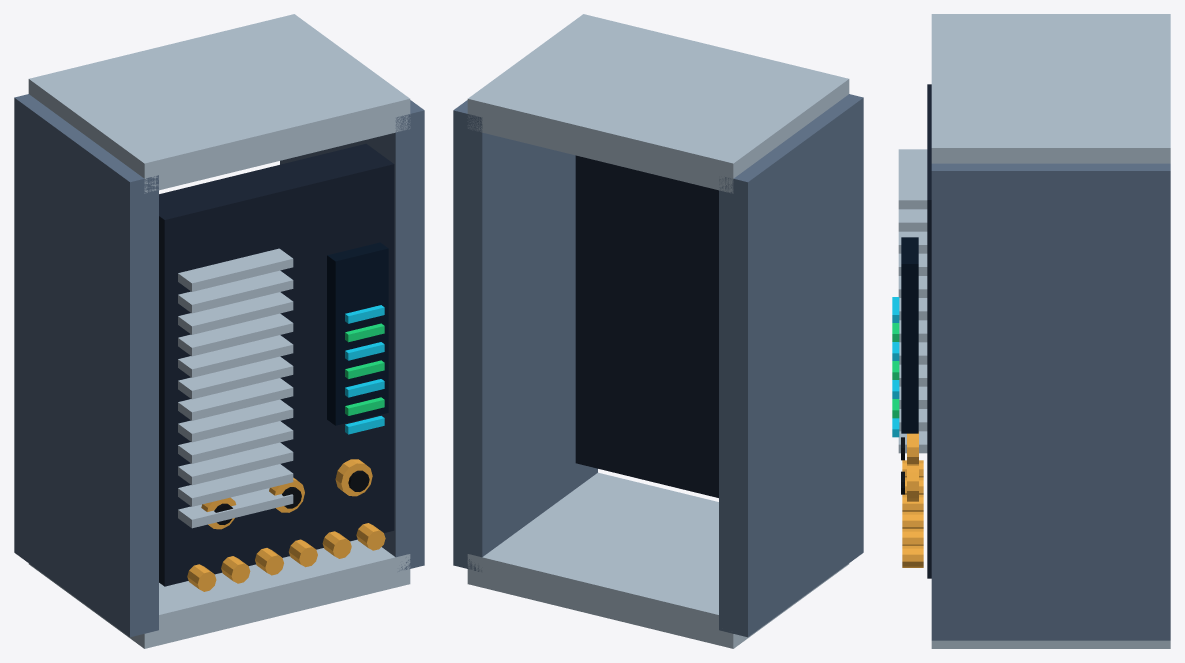
Rendered from 65_L90_PPUChannelD.fbx.
3 views of the same model, side by side, from view 1: azimuth 30°, elevation 25°; view 2: azimuth 150°, elevation 25°; view 3: azimuth 270°, elevation 25° (orthographic). The views are drawn at different scales.
Parts seen in each view (by area): view 1: L90_PPUChannelD, L90_PPUChannelD_Part_0004, L90_PPUChannelD_Part_0005, L90_PPUChannelD_Part_0011; view 2: L90_PPUChannelD; view 3: L90_PPUChannelD, L90_PPUChannelD_Part_0004, L90_PPUChannelD_Part_0005, L90_PPUChannelD_Part_0011.
Part boxes in pixels (bbox=[...]): L90_PPUChannelD: bbox=[14, 14, 424, 648]; L90_PPUChannelD_Part_0004: bbox=[345, 305, 384, 434]; L90_PPUChannelD_Part_0005: bbox=[345, 323, 384, 415]; L90_PPUChannelD_Part_0011: bbox=[335, 459, 372, 496]; L90_PPUChannelD: bbox=[453, 14, 863, 648]; L90_PPUChannelD: bbox=[898, 14, 1170, 648]; L90_PPUChannelD_Part_0004: bbox=[892, 297, 899, 437]; L90_PPUChannelD_Part_0005: bbox=[892, 323, 899, 418]; L90_PPUChannelD_Part_0011: bbox=[907, 464, 918, 501].
Bounding box in the file's own units: 122 × 192 × 96.7.
